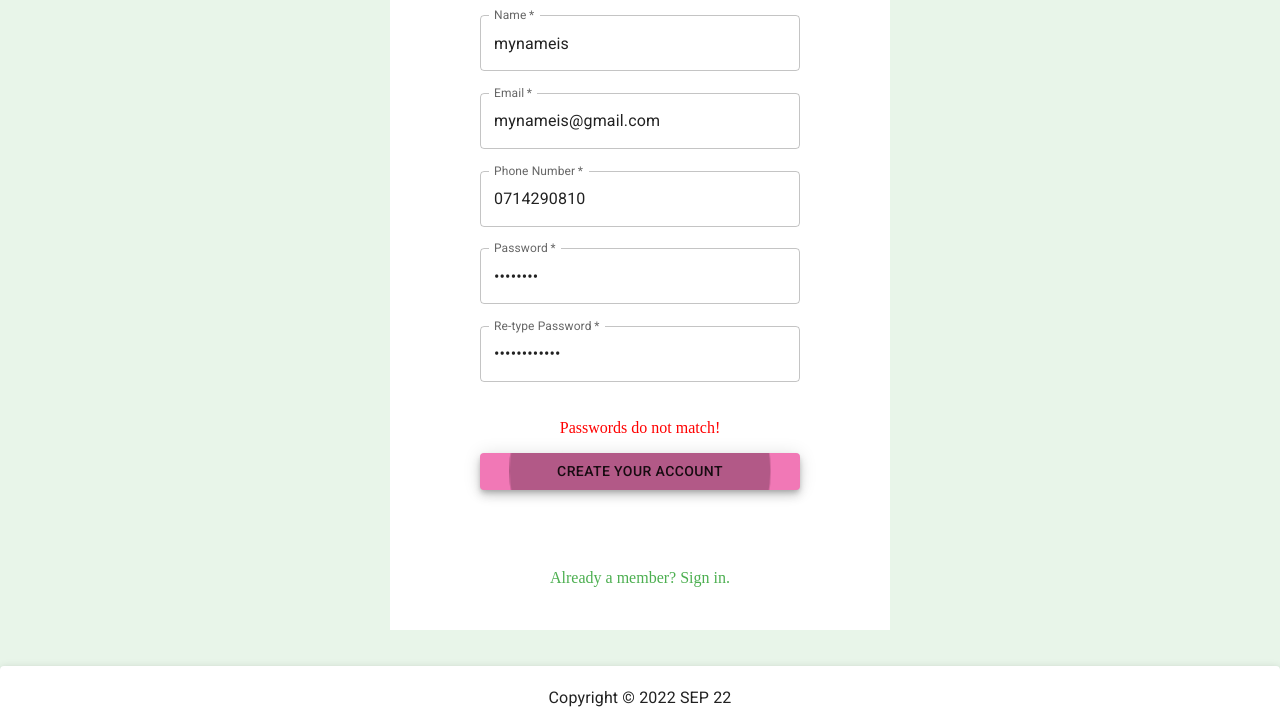
Test: Signup Page works correctly › Check with short password
(page scrolled)
Step 1. Clear the password field with id "outlined-basic" → (640, 276), box [480,248,800,304]
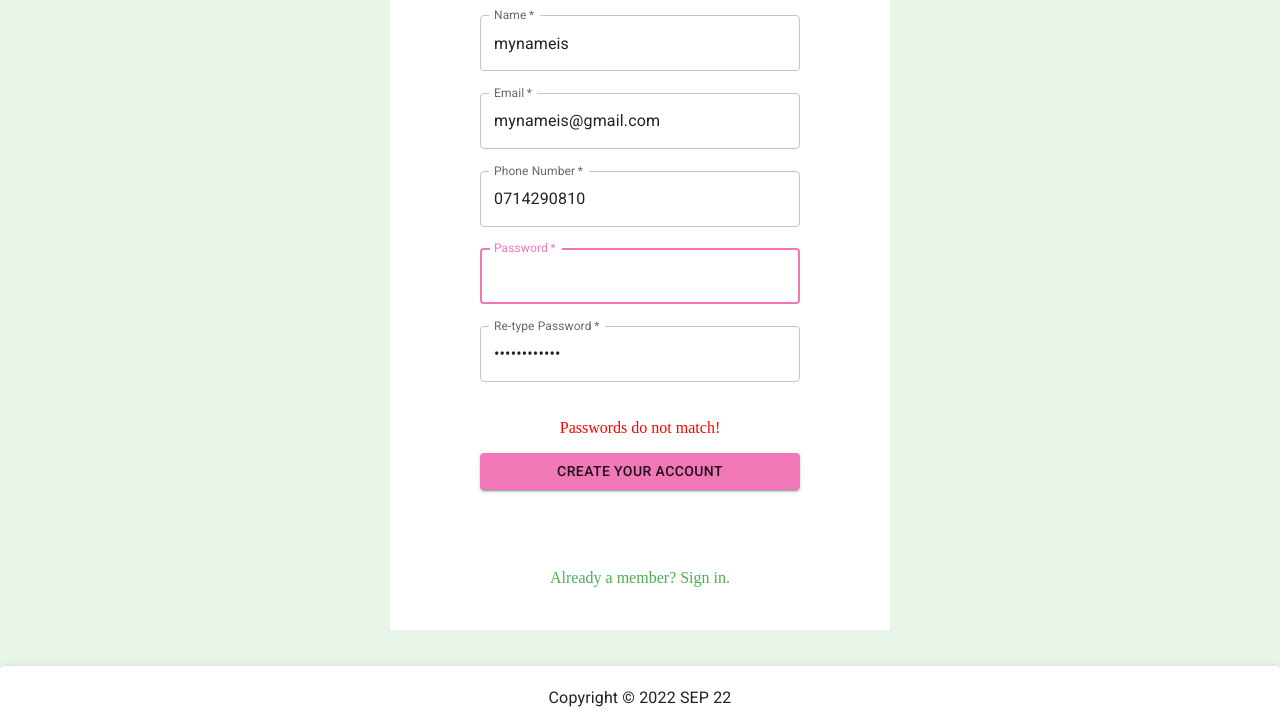
Step 2. Clear the password field with id "outlined-basic" → (640, 354), box [480,326,800,382]
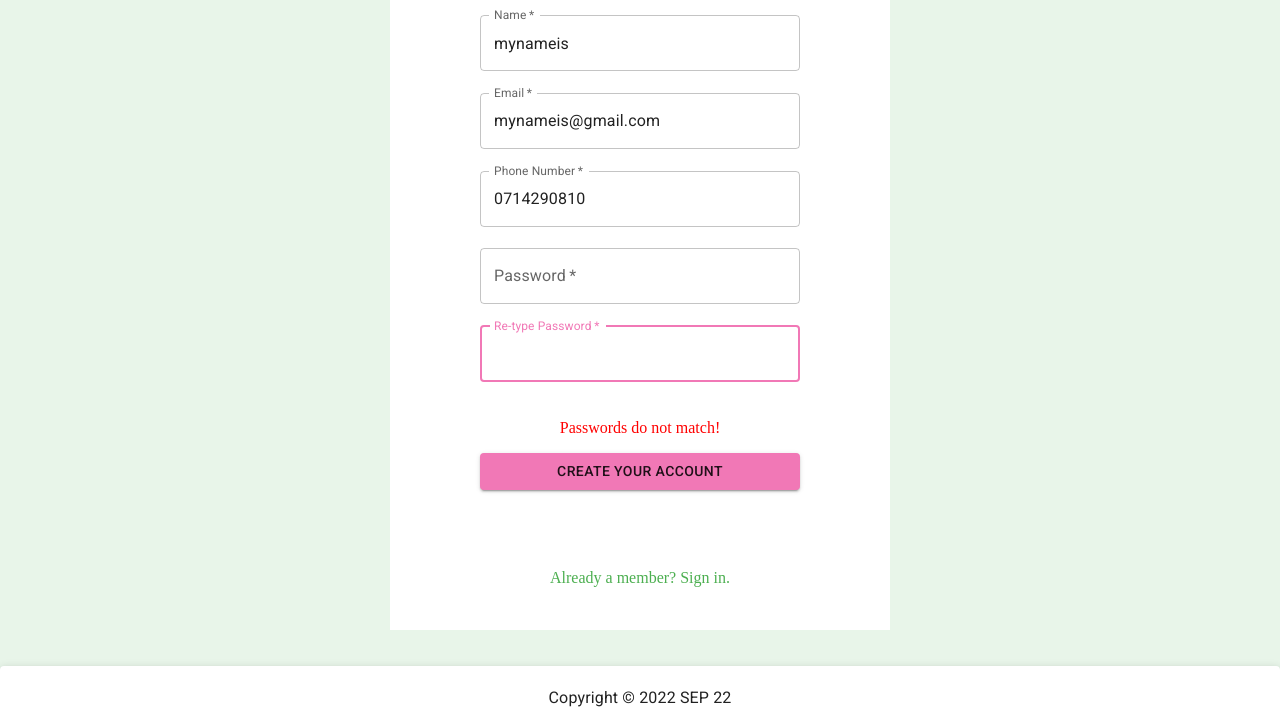
Step 3. Type "pass" into the password field with id "outlined-basic" → (640, 276), box [480,248,800,304]
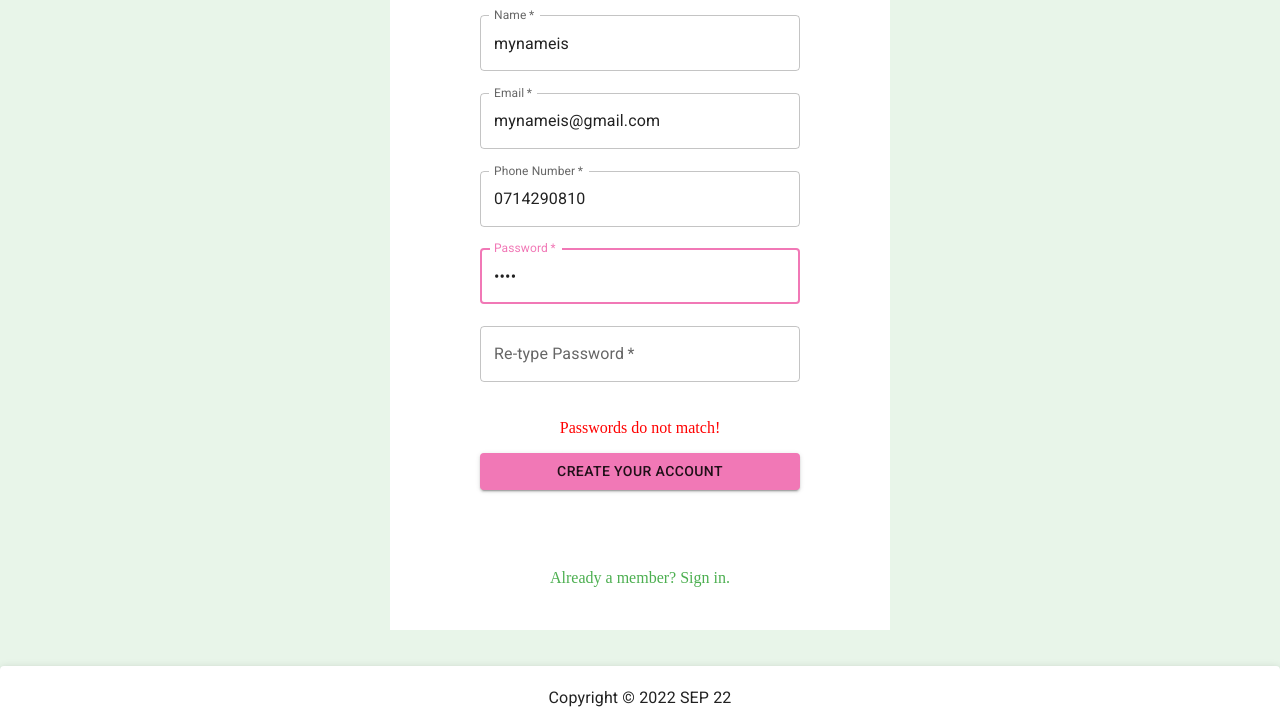
Step 4. Type "pass" into the password field with id "outlined-basic" → (640, 354), box [480,326,800,382]
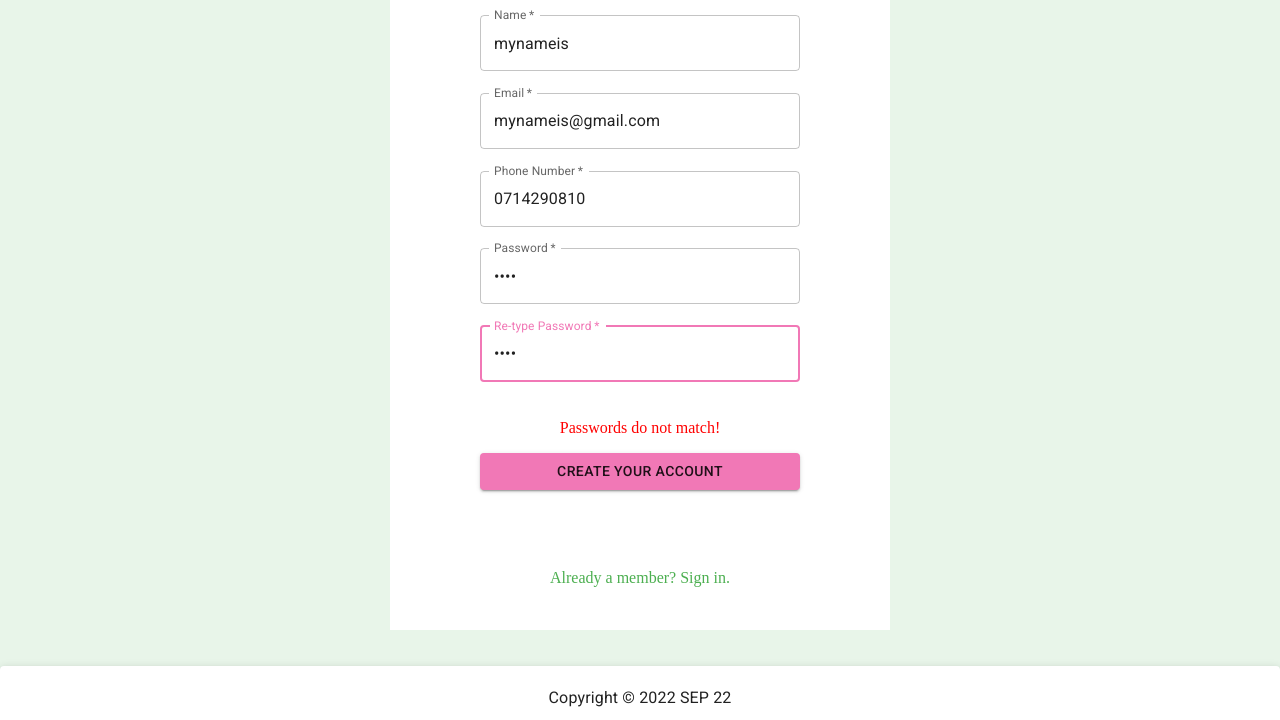
Step 5. Click the button "CREATE YOUR ACCOUNT" → (640, 472), box [480,453,800,490]
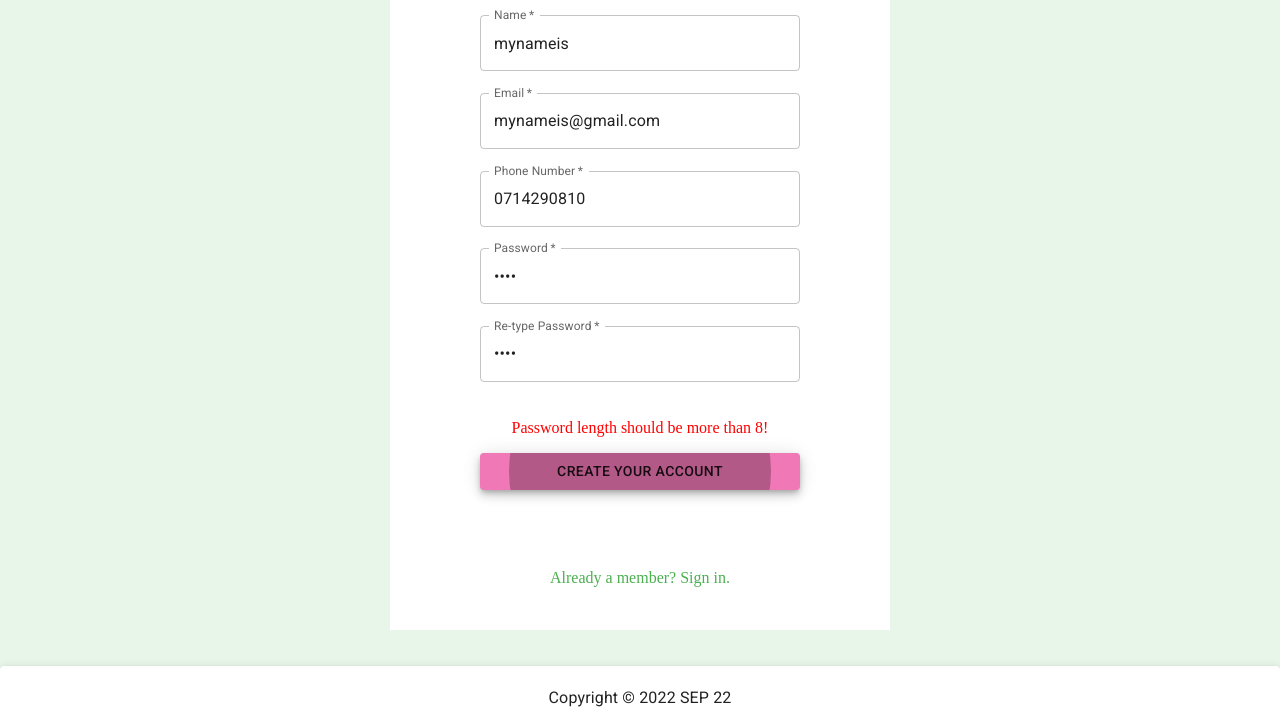
Check: the text "Password length should be more than 8!" is shown, box [512,419,768,437]
